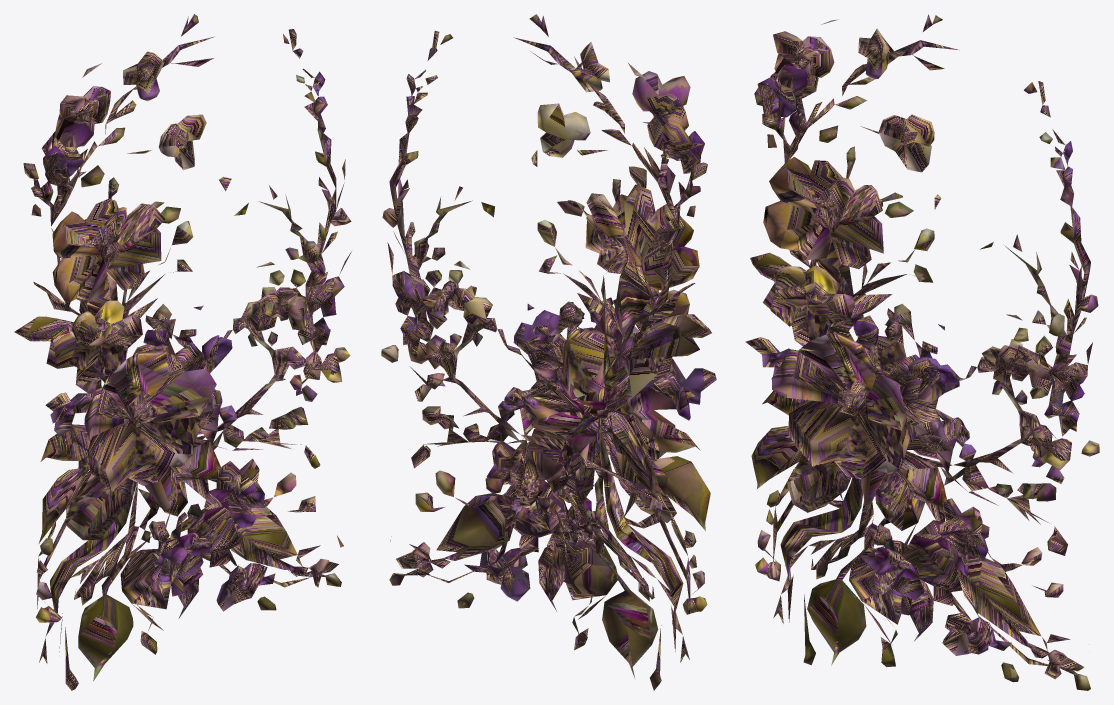
The model's file is 1000054986_jpg.glb.
The picture shows the model from 3 angles, left to right: view 1: azimuth 30°, elevation 25°; view 2: azimuth 150°, elevation 25°; view 3: azimuth 330°, elevation 25°; orthographic projection. The views are drawn at different scales.
Visible parts, largest first — view 1: 1000054986_jpg; view 2: 1000054986_jpg; view 3: 1000054986_jpg.
Boxes of the visible parts, bbox=[...] form: 1000054986_jpg: bbox=[14, 14, 351, 690]; 1000054986_jpg: bbox=[381, 14, 716, 690]; 1000054986_jpg: bbox=[745, 14, 1099, 690].
Size of the model in its own units: 1.03 by 1.92 by 0.1872.
Materials: 1 (1 with a texture image).
